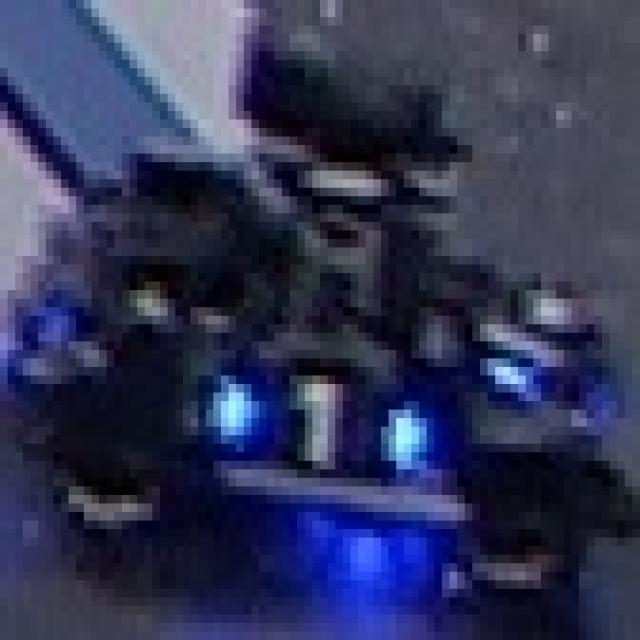B1: (190, 346, 427, 499), (446, 260, 575, 414)
